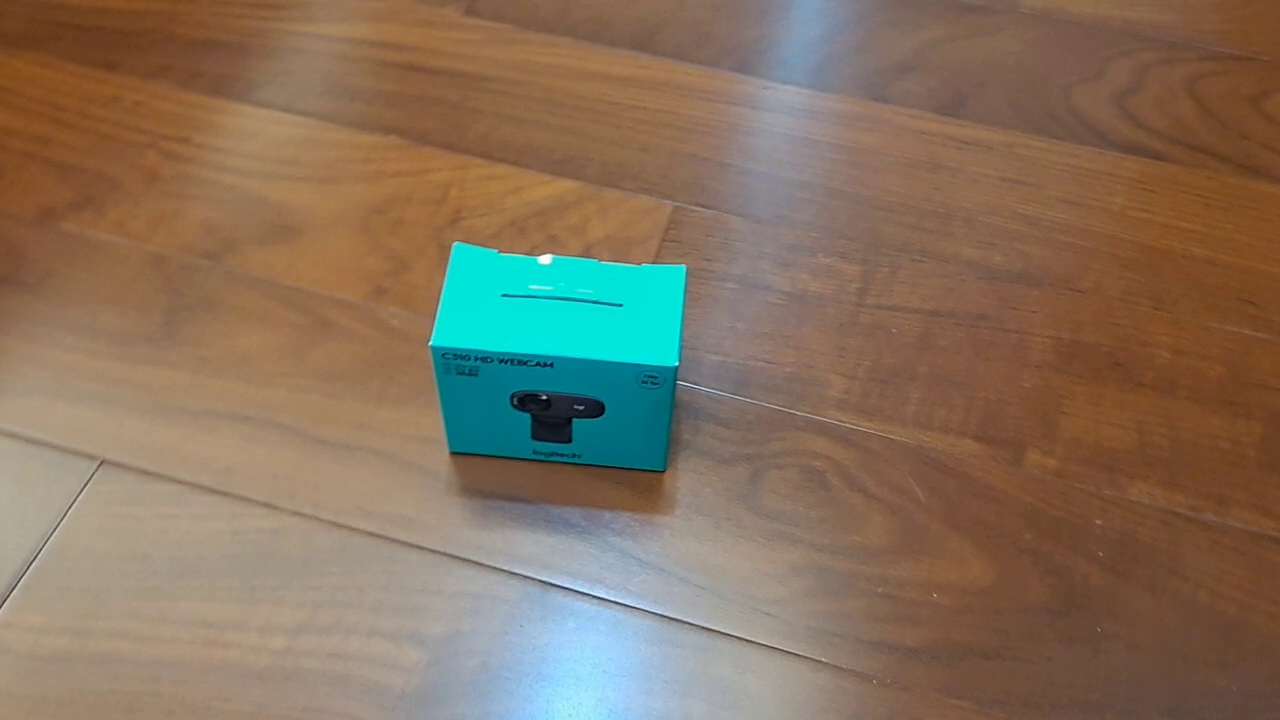webcam: (428, 239, 688, 474)
